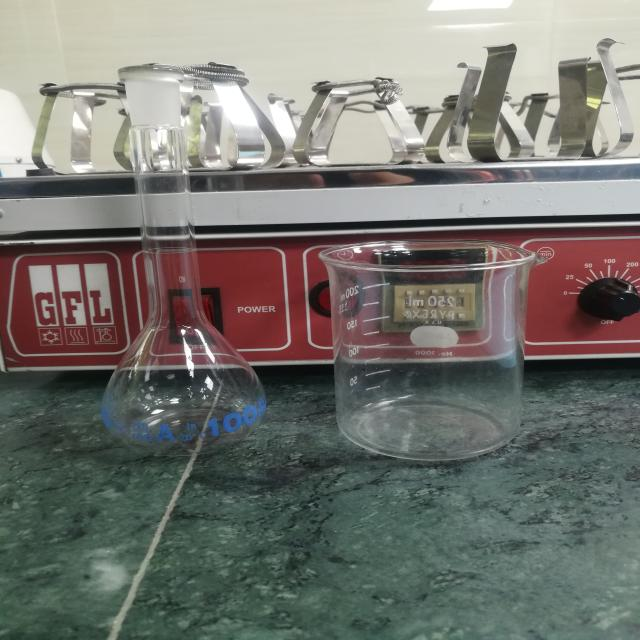Beaker: (299, 200, 576, 483)
Volumetric_Flask: (39, 32, 284, 486)
